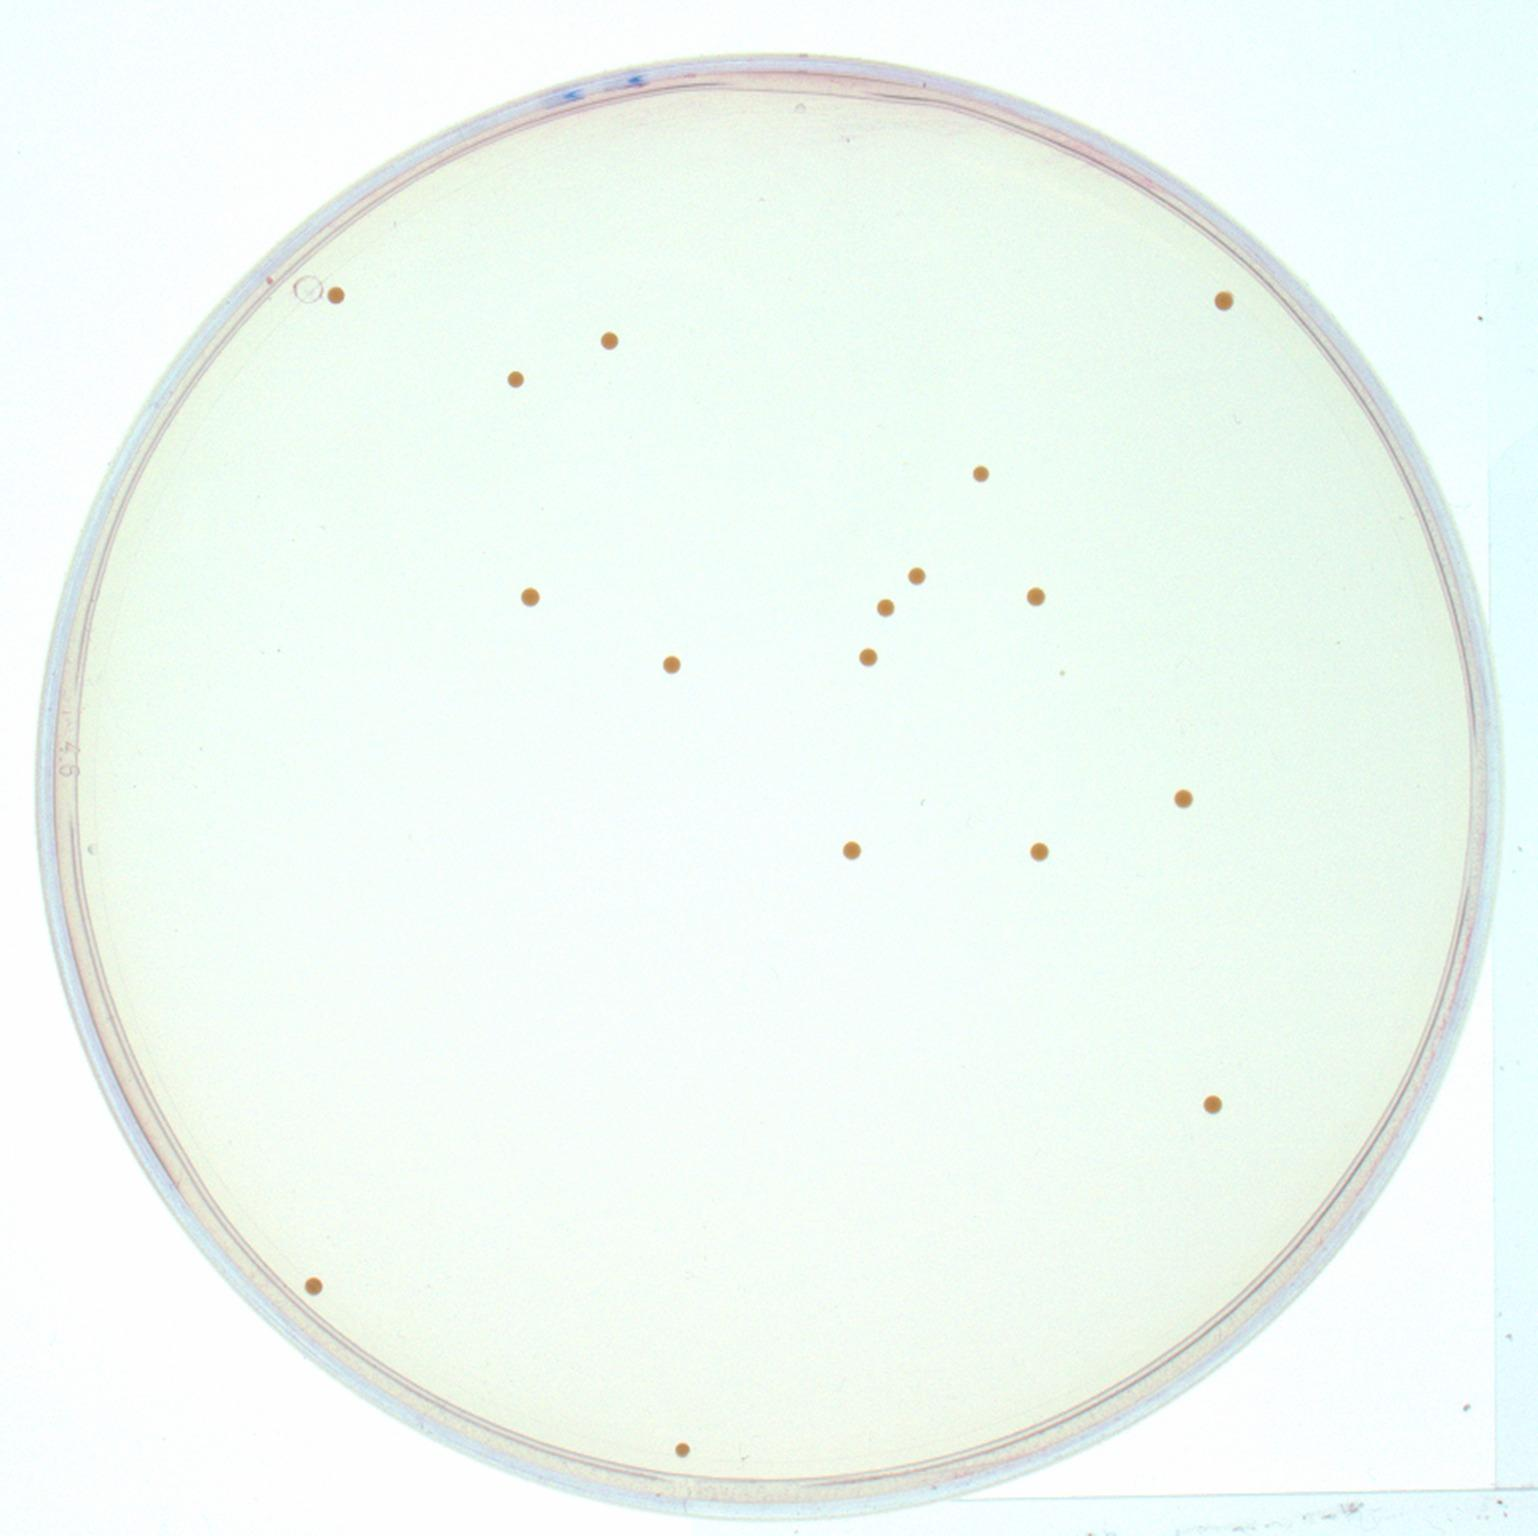colony: (899, 558, 932, 591), (851, 643, 884, 675), (1020, 582, 1051, 613), (870, 592, 901, 623), (836, 834, 864, 864), (1169, 785, 1197, 814), (297, 1273, 326, 1301), (1197, 1093, 1224, 1118), (597, 329, 623, 354), (518, 584, 542, 612), (1212, 286, 1237, 311), (657, 651, 682, 677), (322, 283, 348, 307), (1027, 837, 1050, 864), (502, 369, 526, 391), (968, 463, 993, 484), (671, 1438, 694, 1460)
